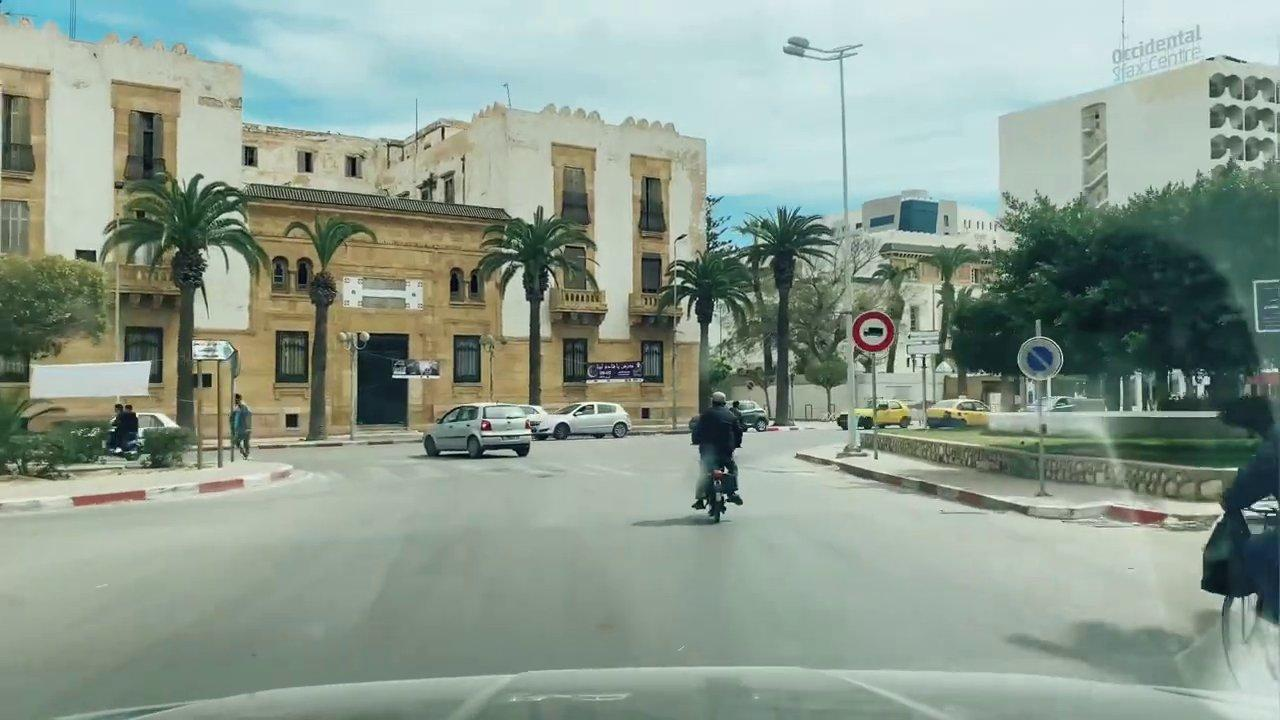no parking: (1016, 334, 1065, 386)
no trucks: (850, 309, 899, 357)
